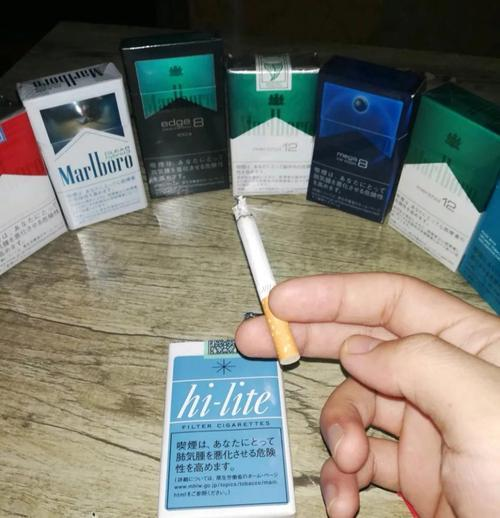smoke: (231, 195, 301, 365)
